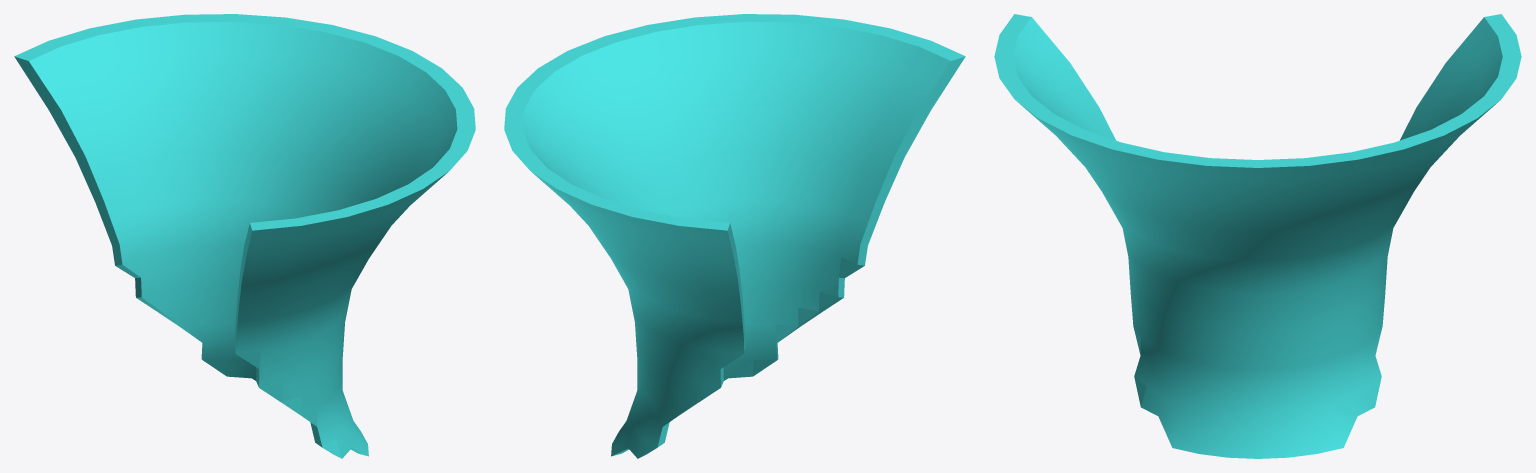
Rendered from VaseBroken5.fbx.
3 views of the same model, side by side, from view 1: azimuth 30°, elevation 25°; view 2: azimuth 150°, elevation 25°; view 3: azimuth 270°, elevation 25° (orthographic). The views are drawn at different scales.
Visible parts, largest first — view 1: splinterUp1; view 2: splinterUp1; view 3: splinterUp1.
Boxes of the visible parts, bbox=[...] form: splinterUp1: bbox=[14, 14, 475, 458]; splinterUp1: bbox=[504, 14, 965, 458]; splinterUp1: bbox=[994, 14, 1521, 458].
Size of the model in its own units: 10.56 by 10.78 by 15.27.
